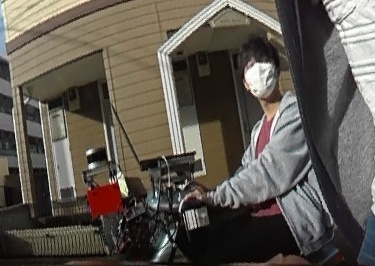person: (179, 37, 328, 265)
